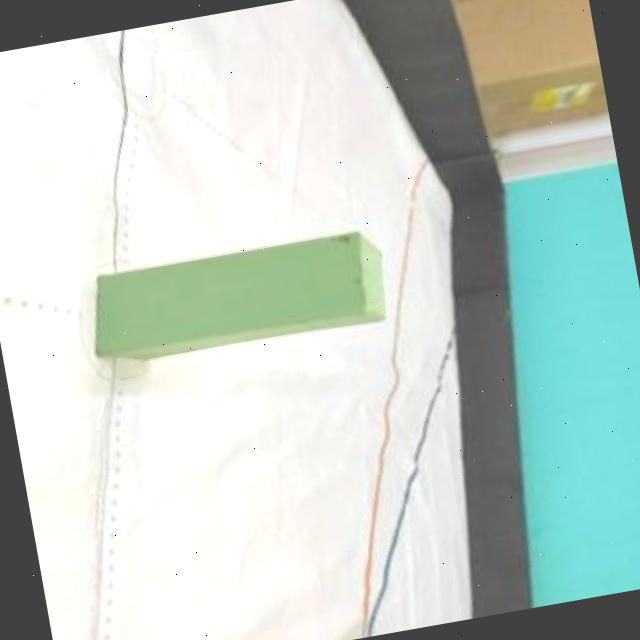greenbox: (81, 224, 393, 370)
